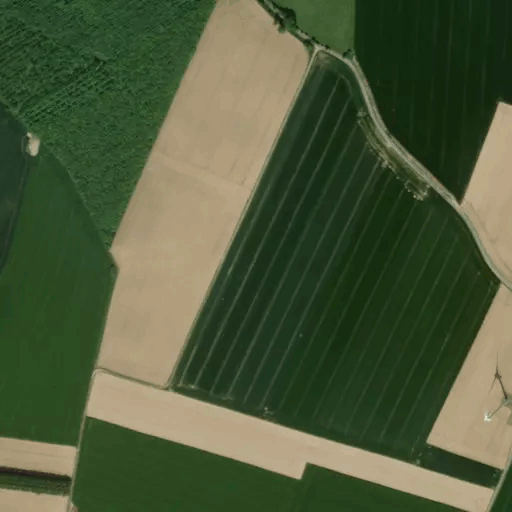wt: (471, 349, 512, 439)
